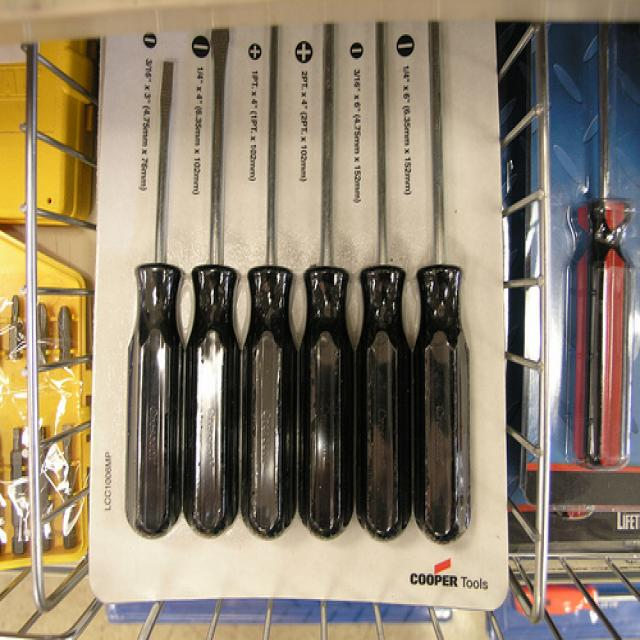Screwdriver: (409, 5, 474, 557), (351, 10, 412, 556), (301, 16, 355, 546), (244, 16, 298, 546), (124, 59, 181, 548), (188, 24, 236, 540)
